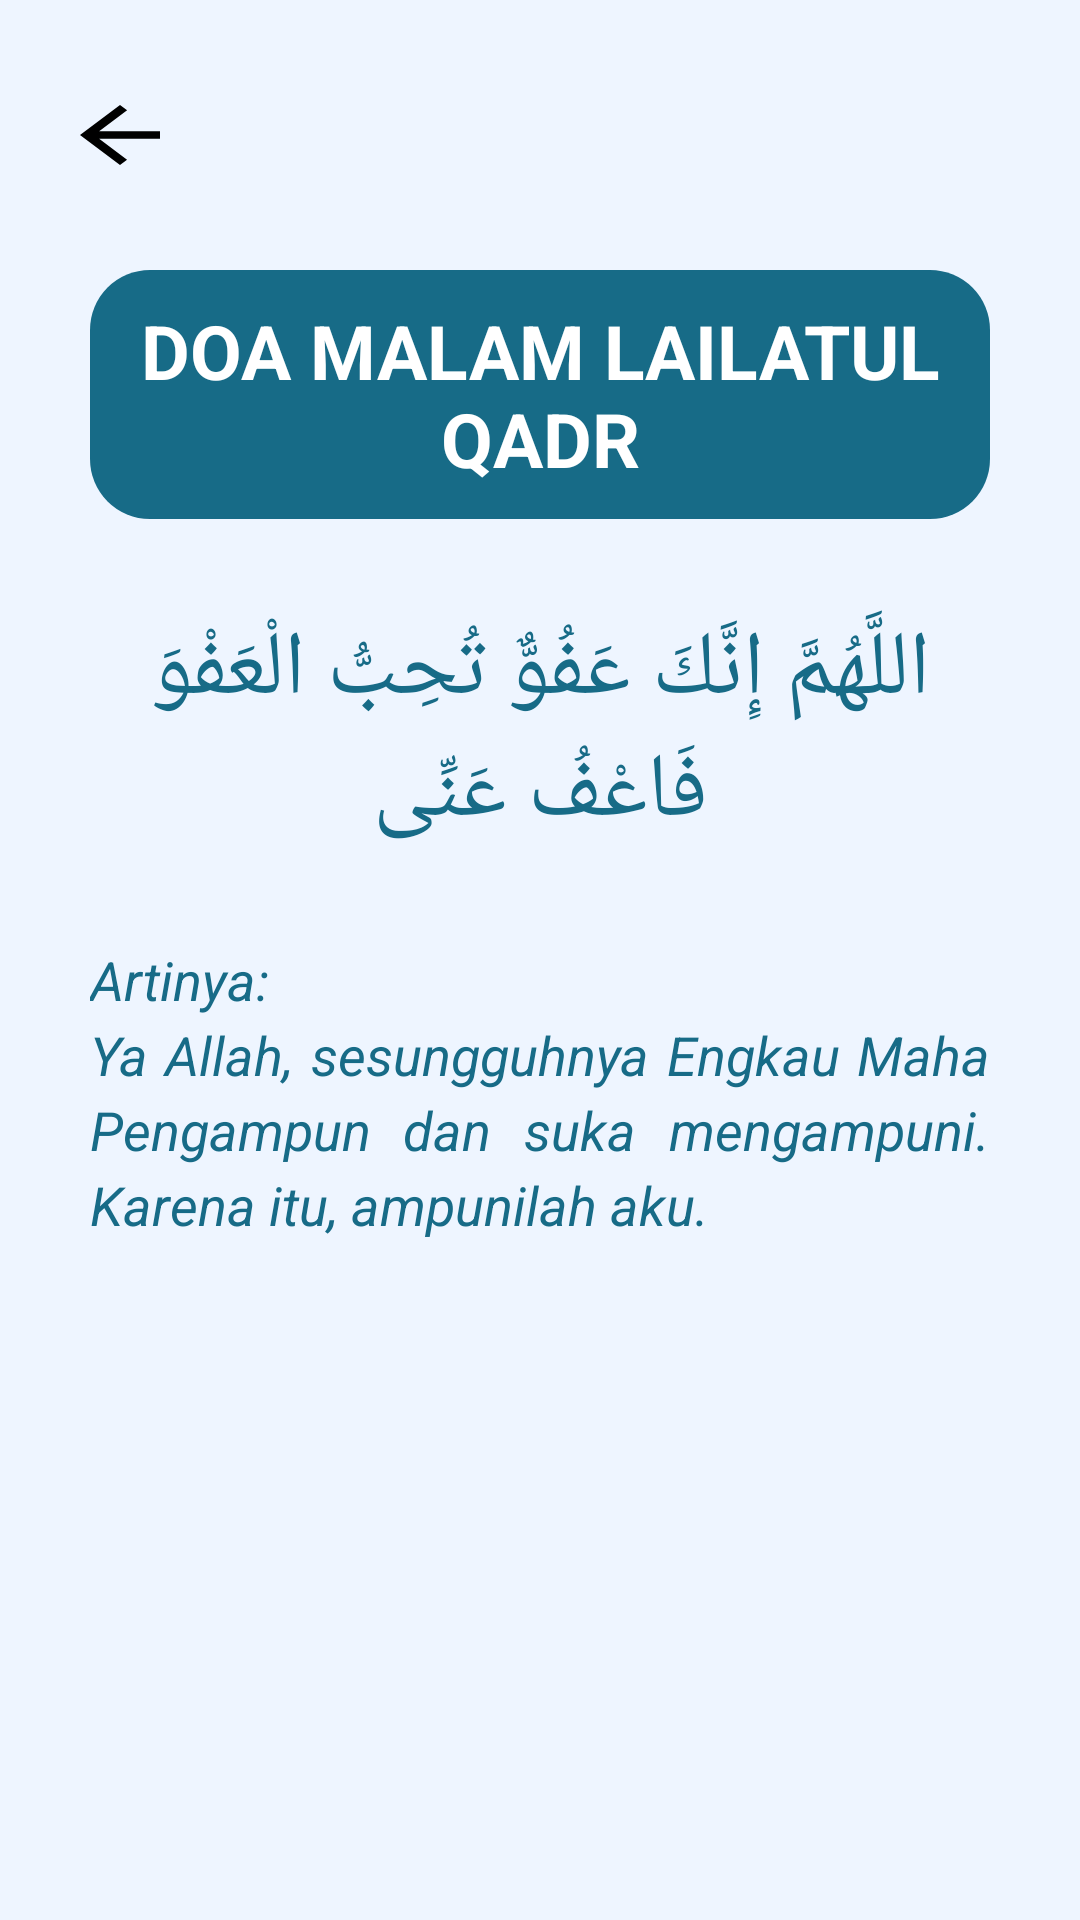

Locate icon controls on the screen. Image size 1080w x 1920h, boxes as (x1, y1, x2, y2).
arrow back: (80, 105, 160, 165)
